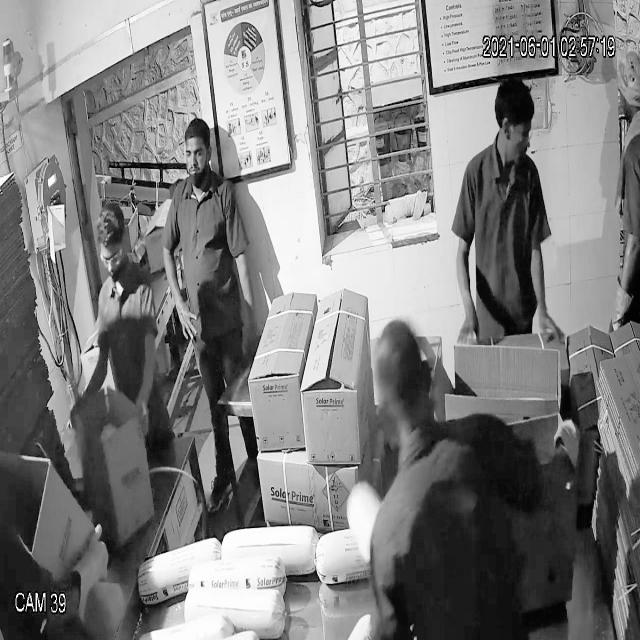glasses: (95, 238, 129, 272)
